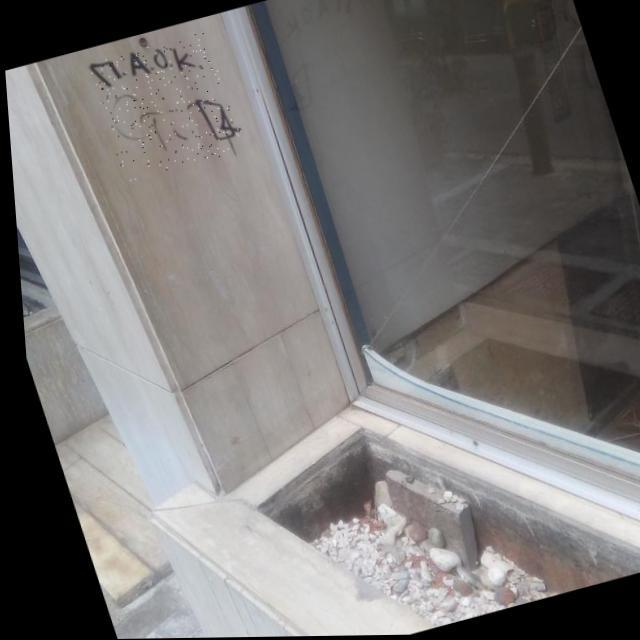-: (84, 31, 245, 182)
